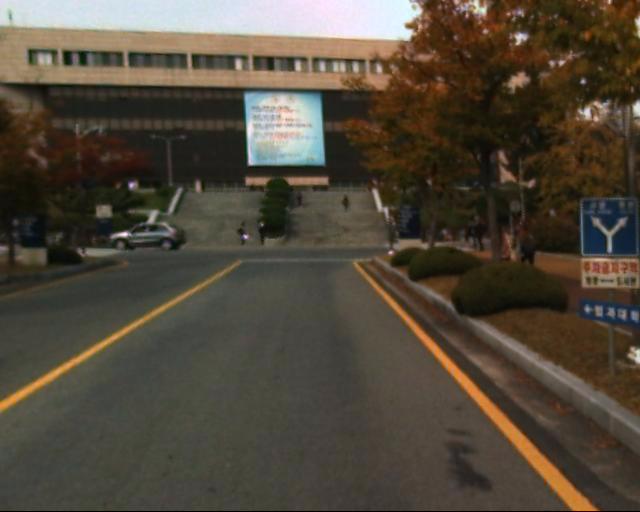person: (491, 223, 516, 288), (522, 222, 543, 289)
